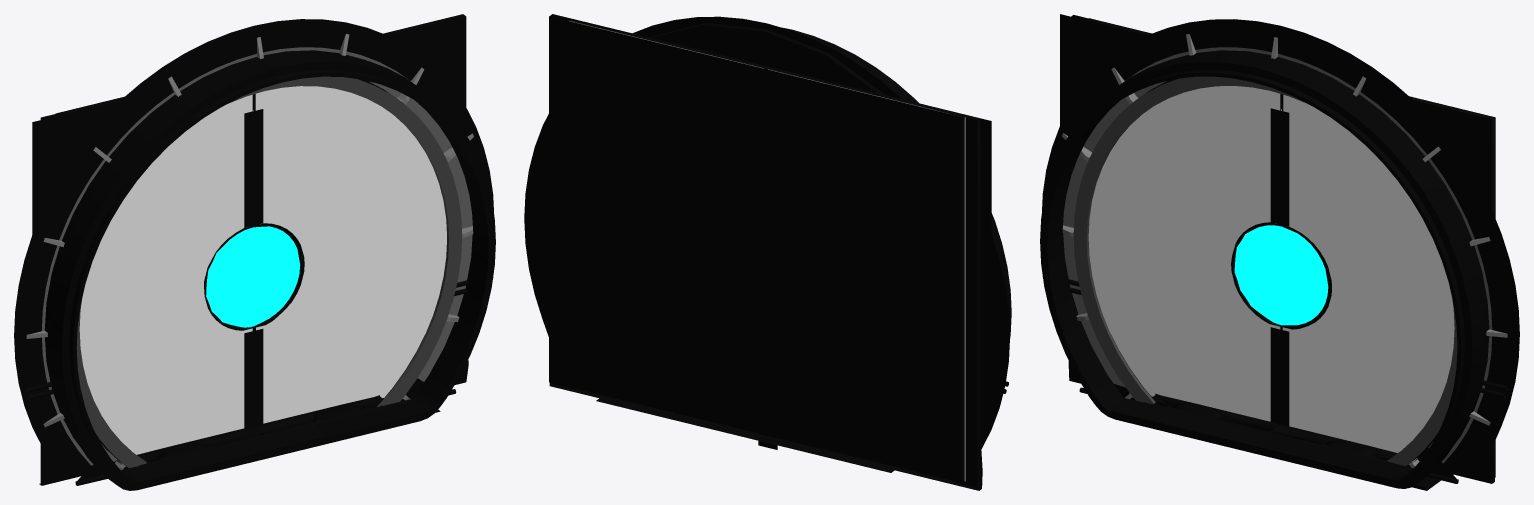
The model's file is door2.glb.
The picture shows the model from 3 angles, left to right: view 1: azimuth 30°, elevation 25°; view 2: azimuth 150°, elevation 25°; view 3: azimuth 330°, elevation 25°; orthographic projection.
Visible parts, largest first — view 1: Object_8.001; view 2: Object_8.001; view 3: Object_8.001.
Boxes of the visible parts, bbox=[...] form: Object_8.001: bbox=[14, 14, 495, 490]; Object_8.001: bbox=[524, 14, 1011, 490]; Object_8.001: bbox=[1040, 14, 1519, 490].
Bounding box in the file's own units: 21.5 × 17.95 × 2.46.
